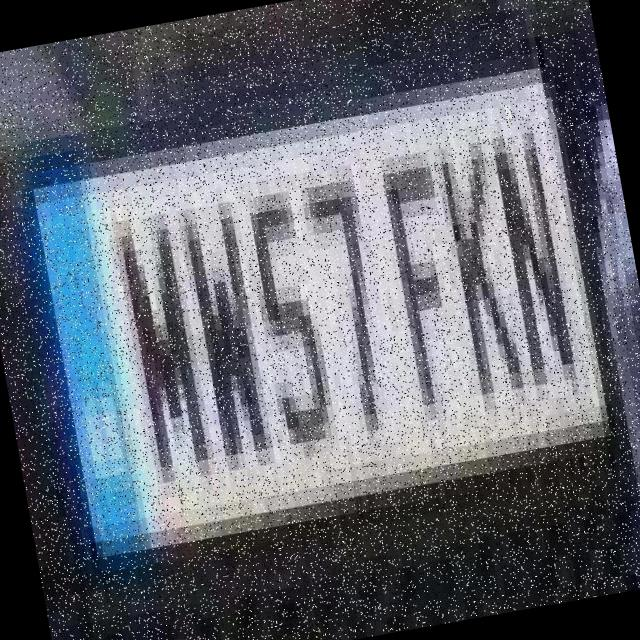LicensePlate: (23, 63, 626, 549)
